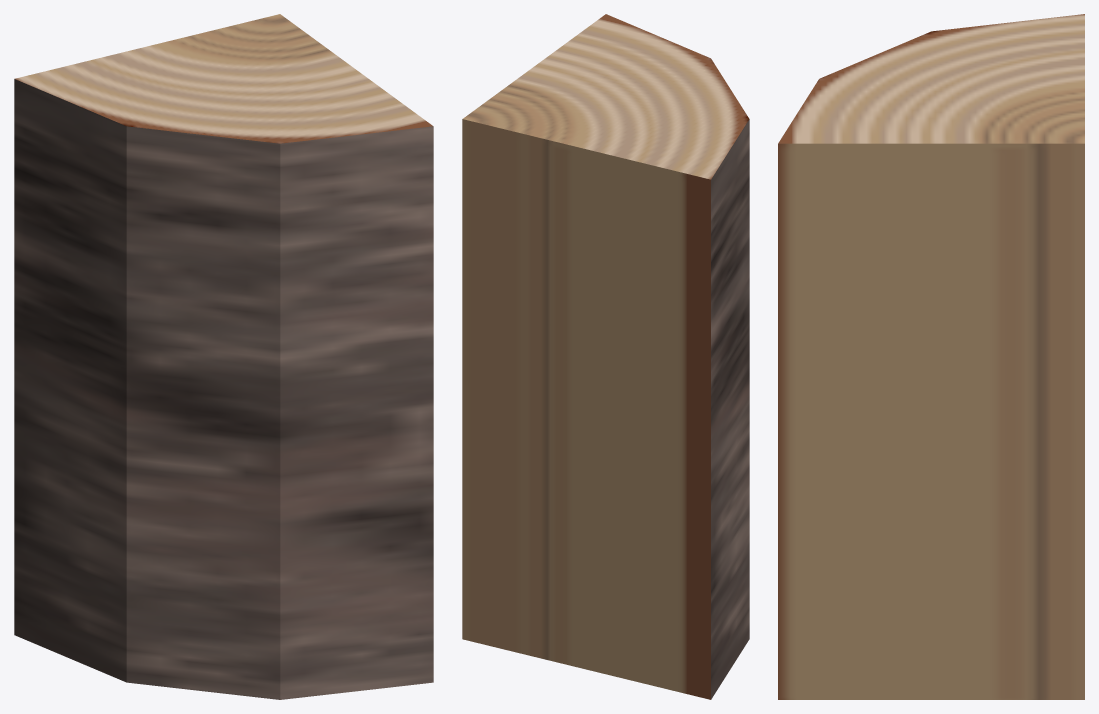
The model's file is quarter-log.glb.
3 renders of one model, left to right at view 1: azimuth 30°, elevation 25°; view 2: azimuth 150°, elevation 25°; view 3: azimuth 270°, elevation 25°, orthographic. The views are drawn at different scales.
Visible parts, largest first — view 1: Cylinder; view 2: Cylinder; view 3: Cylinder.
Part boxes in pixels (box(x1,y1,x2,y2)): Cylinder: box(14, 14, 433, 699); Cylinder: box(462, 14, 749, 699); Cylinder: box(778, 14, 1084, 699).
Bounding box in the file's own units: 1 × 2 × 1.
Materials: 3 (3 with a texture image).
